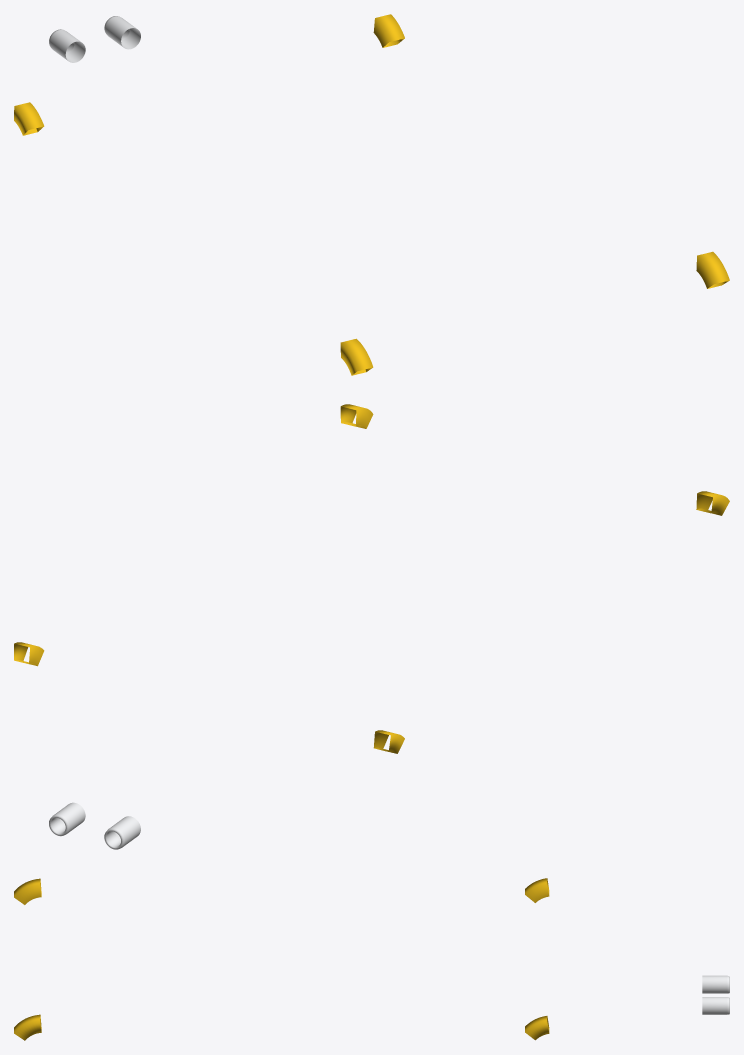
The model's file is orsini-saetta.glb.
3 renders of one model, top to bottom at view 1: azimuth 30°, elevation 25°; view 2: azimuth 150°, elevation 25°; view 3: azimuth 270°, elevation 25°, orthographic. The views are drawn at different scales.
Parts seen in each view (by area): view 1: Exhaust, Caliper_FL, Caliper_FR, Caliper_RL, Caliper_RR; view 2: Exhaust; view 3: Exhaust, Caliper_FR, Caliper_FL, Caliper_RR, Caliper_RL.
Boxes of the visible parts, x1=… form: Exhaust: x1=49, y1=16, x2=140, y2=62; Caliper_FL: x1=696, y1=251, x2=729, y2=288; Caliper_FR: x1=340, y1=338, x2=373, y2=375; Caliper_RL: x1=373, y1=14, x2=404, y2=47; Caliper_RR: x1=14, y1=102, x2=44, y2=135; Exhaust: x1=49, y1=802, x2=140, y2=849; Exhaust: x1=702, y1=975, x2=729, y2=1014; Caliper_FR: x1=14, y1=878, x2=41, y2=904; Caliper_FL: x1=14, y1=1014, x2=41, y2=1040; Caliper_RR: x1=525, y1=878, x2=549, y2=902; Caliper_RL: x1=525, y1=1016, x2=549, y2=1040.
Size of what is drawn, in the model's own units: 1.77 by 0.3085 by 3.72.
